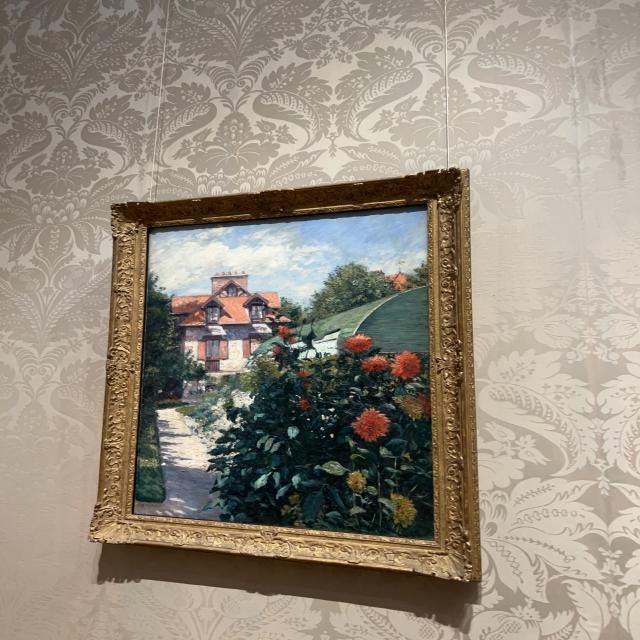summer: (138, 214, 430, 538)
